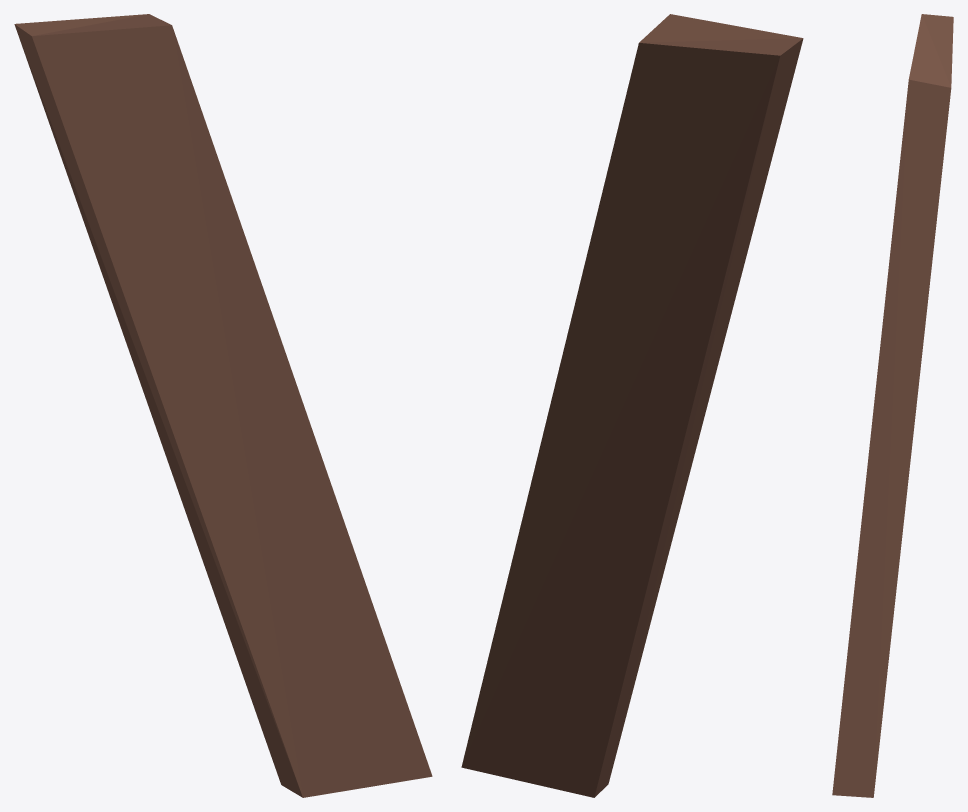
File: group626986421_lev3.glb
The picture shows the model from 3 angles, left to right: view 1: azimuth 30°, elevation 25°; view 2: azimuth 150°, elevation 25°; view 3: azimuth 270°, elevation 25°; orthographic projection. The views are drawn at different scales.
Parts seen in each view (by area): view 1: group626986421_lev3; view 2: group626986421_lev3; view 3: group626986421_lev3.
Boxes of the visible parts, x1,y1,x2,y2 form: group626986421_lev3: (14, 14, 432, 797); group626986421_lev3: (461, 14, 803, 797); group626986421_lev3: (832, 14, 953, 797).
Size of the model in its own units: 0.4993 by 1.08 by 0.1839.
